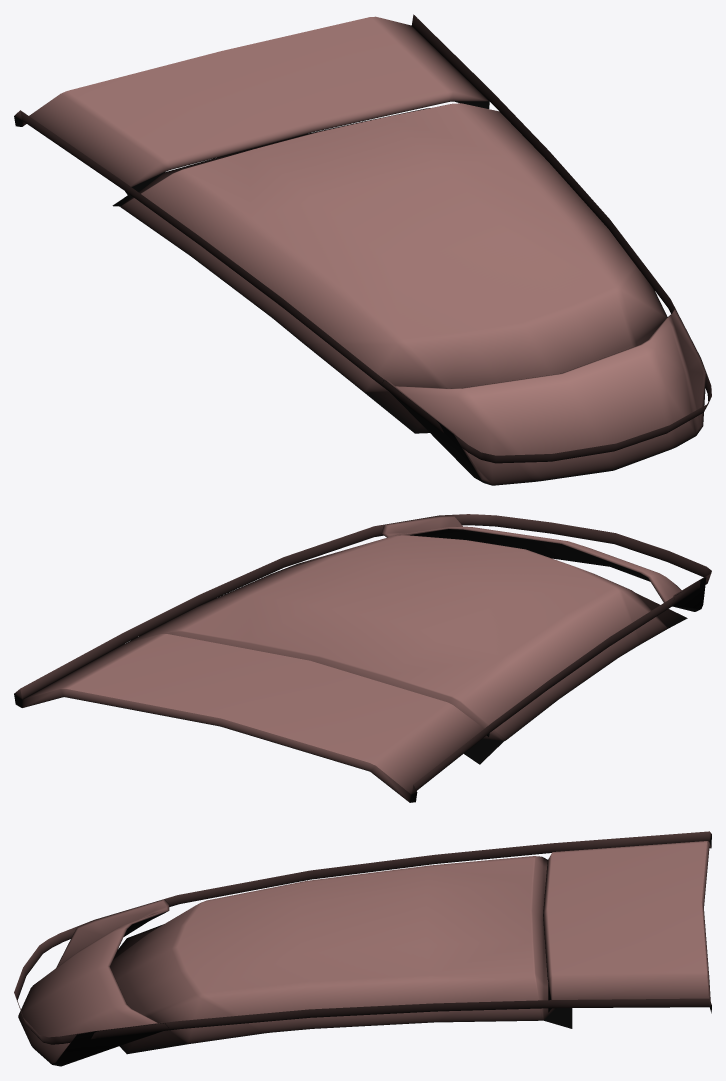
The model's file is Zr1_Hood_04_Trim.fbx.
3 views of the same model, one above another, from view 1: azimuth 30°, elevation 25°; view 2: azimuth 150°, elevation 25°; view 3: azimuth 270°, elevation 25° (orthographic). The views are drawn at different scales.
Parts seen in each view (by area): view 1: Zr1_Hood_04_Trim; view 2: Zr1_Hood_04_Trim; view 3: Zr1_Hood_04_Trim.
Boxes of the visible parts, left/top/right/bottom form: Zr1_Hood_04_Trim: left=14, top=14, right=711, bottom=485; Zr1_Hood_04_Trim: left=14, top=514, right=711, bottom=802; Zr1_Hood_04_Trim: left=14, top=831, right=711, bottom=1066.
Size of the model in its own units: 57.93 by 18.79 by 99.68.
